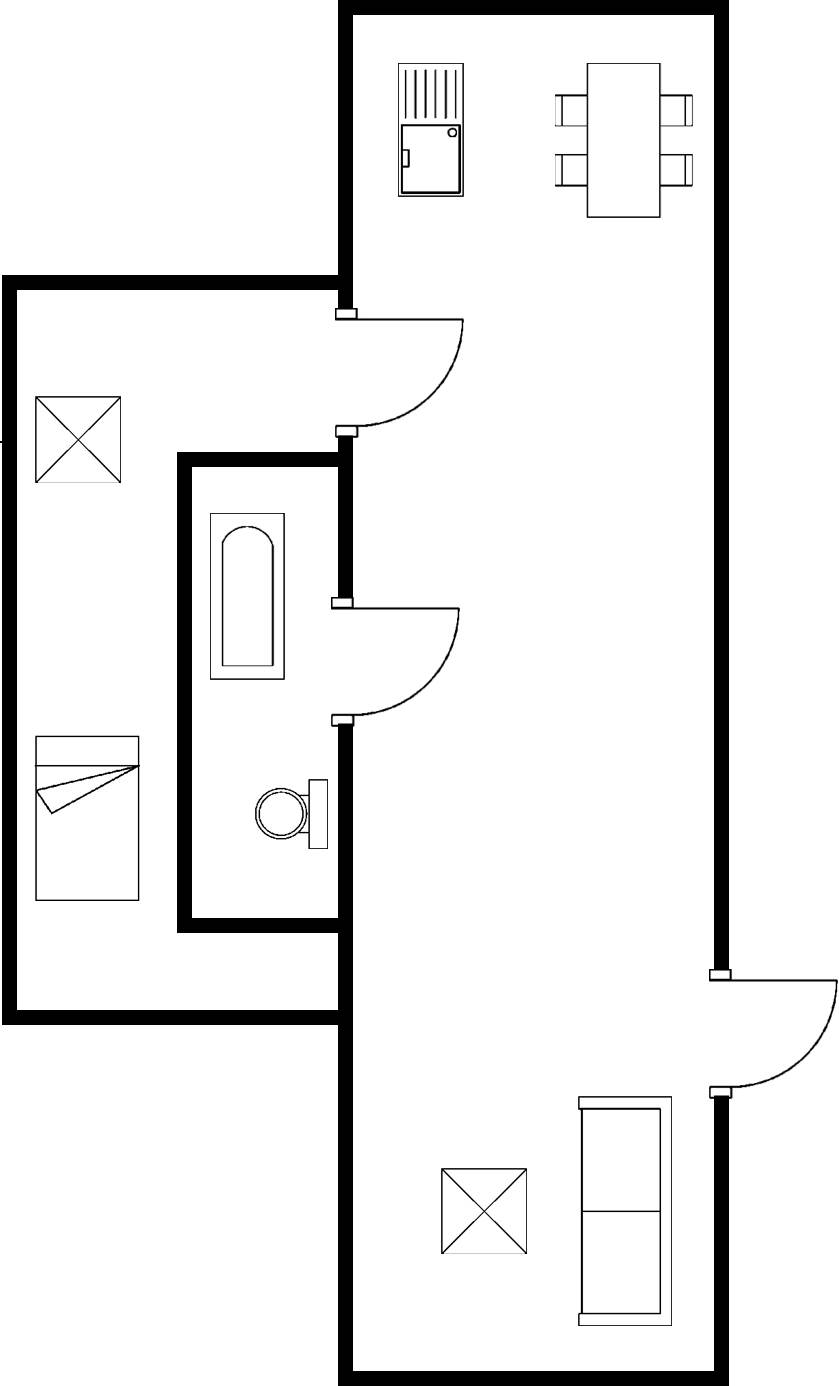bed: (26, 730, 148, 907)
coffee_table: (433, 1160, 537, 1268), (30, 390, 130, 491)
dining_table: (546, 57, 698, 229)
large_sink: (248, 775, 332, 857)
large_sofa: (569, 1088, 682, 1336)
sink: (390, 53, 469, 207)
tub: (203, 506, 295, 687)
